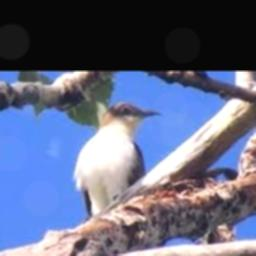Cuckoo: (74, 103, 164, 218)
